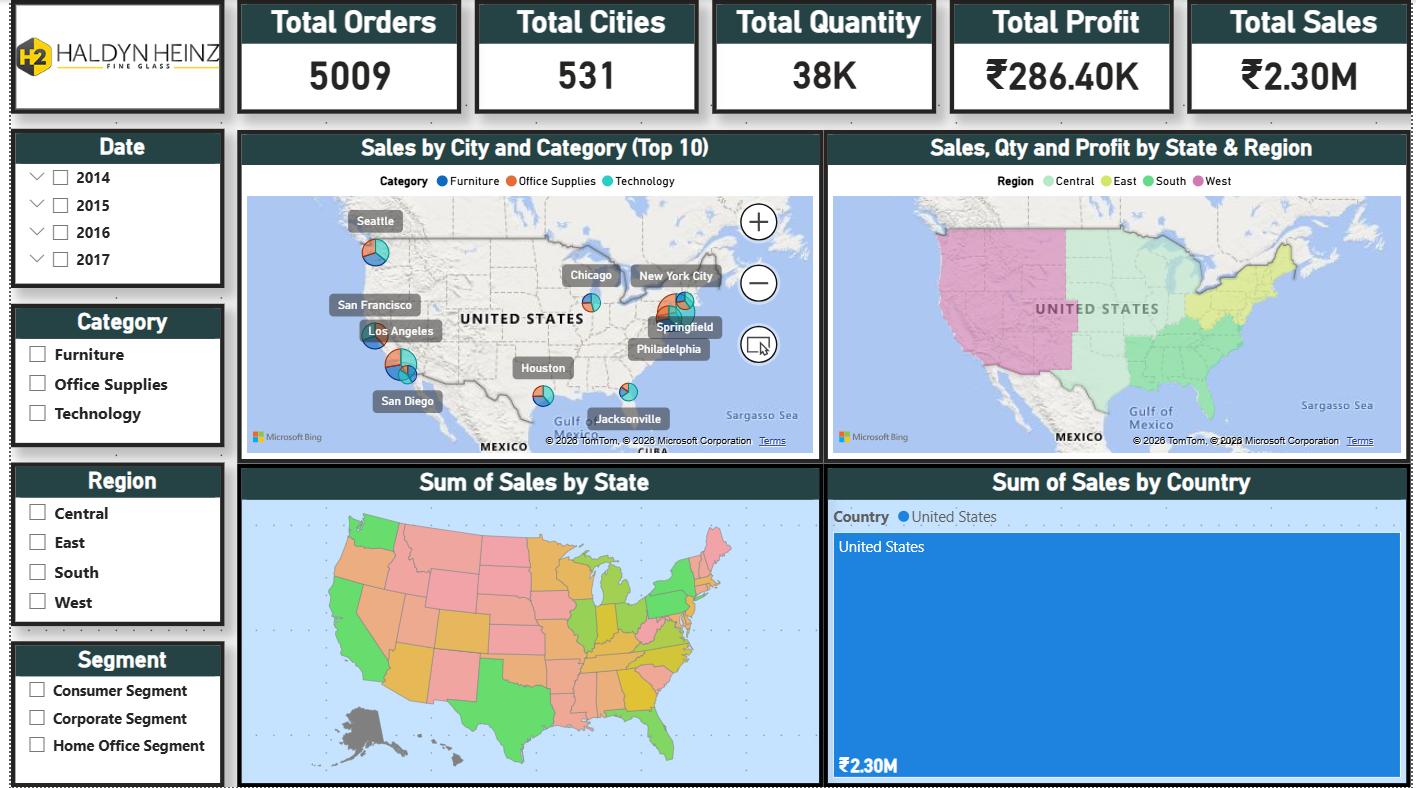

The page's visual inventory and layout, read from the dashboard file:
{"tool":"powerbi","page":{"name":"Region wise Analysis","canvas":[1280,720],"ordinal":4},"visuals":[{"type":"image","box":[0,0,195.4,104],"z":0},{"type":"cardVisual","title":"Total Sales","fields":{"Data":["Sum(Orders.Sales)"]},"box":[1075,0,205,104.3],"z":1000},{"type":"cardVisual","title":"Total Quantity","fields":{"Data":["Sum(Orders.Quantity)"]},"box":[641.1,0,205,104.3],"z":2000},{"type":"cardVisual","title":"Total Cities","fields":{"Data":["Count(Orders.City)"]},"box":[424.2,0,205,104.3],"z":3000},{"type":"cardVisual","title":"Total Orders","fields":{"Data":["Count(Orders.Order ID)"]},"box":[207.3,0,205,104.3],"z":4000},{"type":"cardVisual","title":"Total Profit","fields":{"Data":["Sum(Orders.Profit)"]},"box":[858,0,205,104.3],"z":5000},{"type":"slicer","title":"Date","fields":{"Values":["Orders.Order Date.Variation.Date Hierarchy.Year","Orders.Order Date.Variation.Date Hierarchy.Quarter","Orders.Order Date.Variation.Date Hierarchy.Month","Orders.Order Date.Variation.Date Hierarchy.Day"]},"box":[0,118,195.6,145.8],"z":6000},{"type":"slicer","title":"Category","fields":{"Values":["Orders.Category"]},"box":[0,277.8,195.6,131.6],"z":7000},{"type":"slicer","title":"Region","fields":{"Values":["Orders.Region"]},"box":[0,423.3,195.6,149.3],"z":8000},{"type":"slicer","title":"Segment","fields":{"Values":["Orders.Segment"]},"box":[0,586.1,195.6,133.9],"z":9000},{"type":"map","title":"Sales by City and Category (Top 10)","fields":{"Category":["Orders.City"],"Size":["Sum(Orders.Sales)"],"Series":["Orders.Category"]},"box":[207.4,118.5,535.7,304.6],"z":10000},{"type":"filledMap","title":"Sales, Qty and Profit by State & Region","fields":{"Category":["Orders.State"],"Series":["Orders.Region"]},"box":[743.1,118.5,536.9,304.6],"z":11000},{"type":"shapeMap","fields":{"Category":["Orders.State"],"Value":["Sum(Orders.Sales)"]},"box":[207.4,424.3,535.7,296.3],"z":12000},{"type":"treemap","fields":{"Group":["Orders.Country","Orders.Region","Orders.State","Orders.City"],"Values":["Sum(Orders.Sales)"]},"box":[743,424,537,296],"z":13000}]}

Visuals, with their boxes in screenshot pixels (x1, y1, x2, y2), scaled from the page's 1280x720 canvas onto the 1416x788 screenshot:
image: 0,0,216,114
"Total Sales" cardVisual: 1189,0,1415,114
"Total Quantity" cardVisual: 709,0,936,114
"Total Cities" cardVisual: 469,0,696,114
"Total Orders" cardVisual: 229,0,456,114
"Total Profit" cardVisual: 949,0,1176,114
"Date" slicer: 0,129,216,289
"Category" slicer: 0,304,216,448
"Region" slicer: 0,463,216,627
"Segment" slicer: 0,641,216,787
"Sales by City and Category (Top 10)" map: 229,130,822,463
"Sales, Qty and Profit by State & Region" filledMap: 822,130,1415,463
shapeMap - Orders.State x Sum(Orders.Sales): 229,464,822,787
treemap - Orders.Country x Orders.Region: 822,464,1415,787
